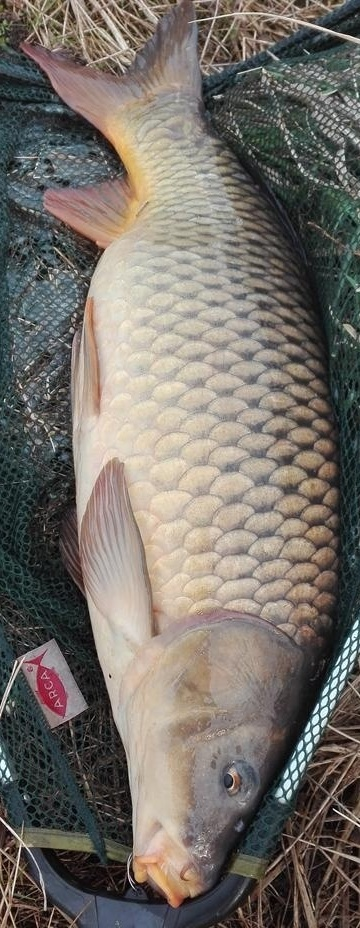Cyprinus carpio: (20, 1, 340, 908)
